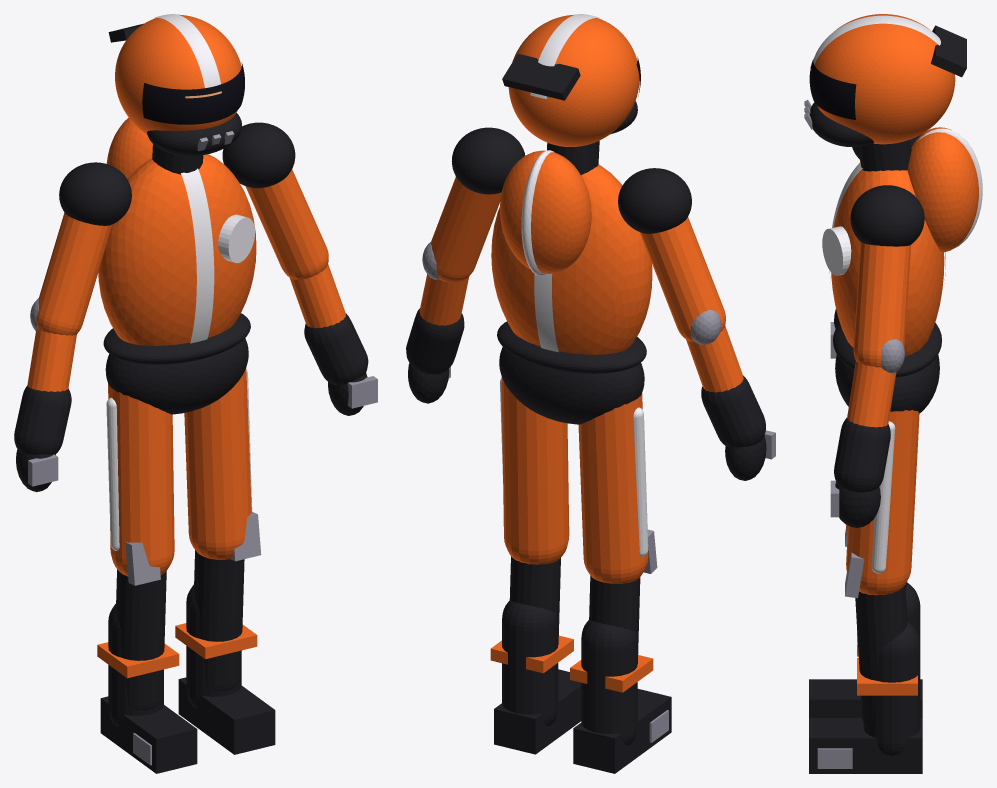
File: racer.glb
The picture shows the model from 3 angles, left to right: view 1: azimuth 30°, elevation 25°; view 2: azimuth 150°, elevation 25°; view 3: azimuth 270°, elevation 25°; orthographic projection.
Parts seen in each view (by area): view 1: Torso, Thigh_L, Thigh_R, Helmet, Boot_L, Hips, Boot_R, UpperArm_R, Shin_L, Shin_R, UpperArm_L, Shoulder_R (+21 smaller); view 2: Torso, Helmet, Thigh_L, Thigh_R, Boot_R, Boot_L, AeroHump, Hips, UpperArm_R, UpperArm_L, Shoulder_R, Shoulder_L (+18 smaller); view 3: Helmet, Boot_L, Torso, AeroHump, Thigh_L, UpperArm_L, Shoulder_L, Shin_L, GloveCuff_L, Boot_R, Forearm_L, Hips (+15 smaller).
Boxes of the visible parts, box(x1,y1,x2,y2) form: Torso: box(98, 154, 256, 346); Thigh_L: box(184, 368, 251, 559); Thigh_R: box(108, 383, 174, 576); Helmet: box(115, 14, 241, 133); Boot_L: box(178, 584, 275, 754); Hips: box(105, 338, 248, 414); Boot_R: box(100, 604, 197, 773); UpperArm_R: box(36, 212, 112, 335); Shin_L: box(194, 550, 244, 691); Shin_R: box(116, 569, 166, 710); UpperArm_L: box(245, 169, 328, 279); Shoulder_R: box(59, 162, 131, 225); Torso: box(491, 164, 652, 354); Helmet: box(508, 14, 639, 146); Thigh_L: box(501, 377, 569, 564); Thigh_R: box(578, 393, 648, 583); Boot_R: box(573, 620, 671, 773); Boot_L: box(494, 600, 581, 754); AeroHump: box(500, 150, 591, 273); Hips: box(499, 347, 644, 424); UpperArm_R: box(640, 217, 725, 341); UpperArm_L: box(431, 177, 501, 282); Shoulder_R: box(618, 168, 691, 233); Shoulder_L: box(451, 127, 525, 194); Helmet: box(814, 14, 955, 144); Boot_L: box(809, 621, 922, 773); Torso: box(831, 169, 944, 356); AeroHump: box(907, 127, 978, 252); Thigh_L: box(846, 410, 919, 595); UpperArm_L: box(853, 242, 910, 367); Shoulder_L: box(850, 185, 924, 246); Shin_L: box(855, 585, 907, 727); GloveCuff_L: box(834, 418, 890, 492); Boot_R: box(809, 583, 922, 717); Forearm_L: box(847, 361, 896, 427); Hips: box(835, 354, 939, 413).
Size of the model in its own units: 0.9351 by 1.83 by 0.4088.
